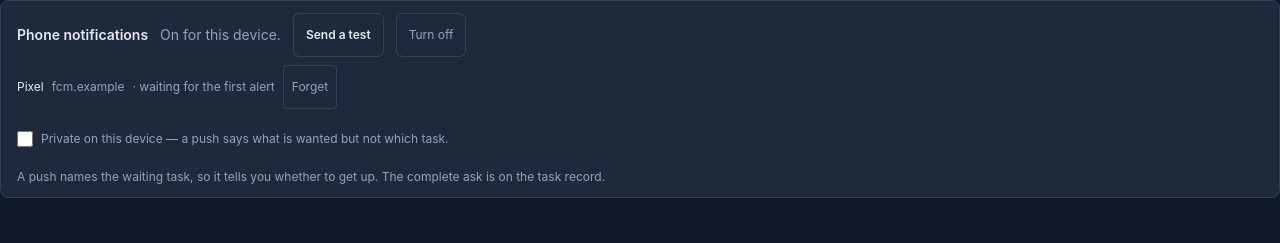
Test: a device that is already registered › reports what a test push actually did, per device
The width and height of the screenshot is (1280, 243).
Click the button with test id "test-push". click: (338, 35)
box: [293,13,384,57]
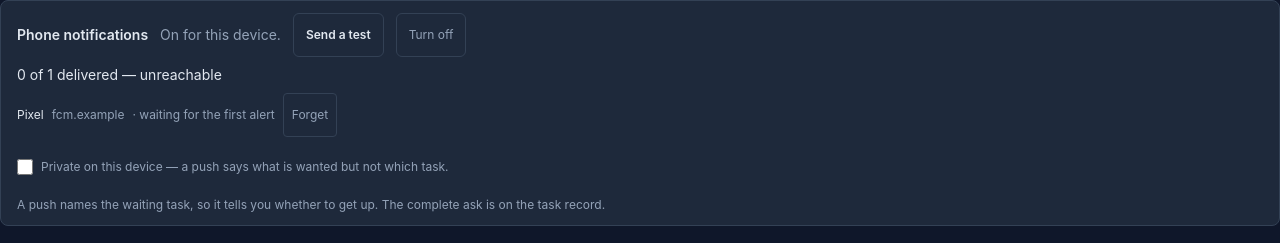
Expected: the text with test id "push-test-result" shows "0 of 1", [17,66,222,83]
Expected: the text with test id "push-test-result" shows "unreachable", [17,66,222,83]
